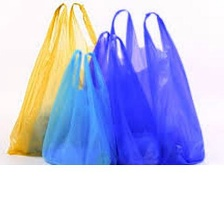plastic_bag: (105, 4, 210, 170), (2, 0, 100, 160), (82, 28, 158, 166), (37, 47, 115, 165)
